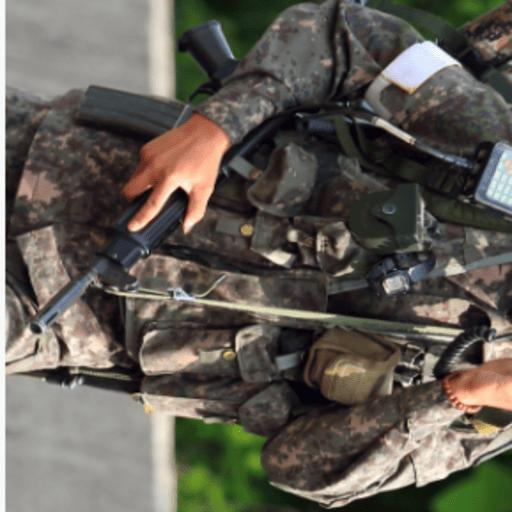korea army: (4, 4, 504, 499)
